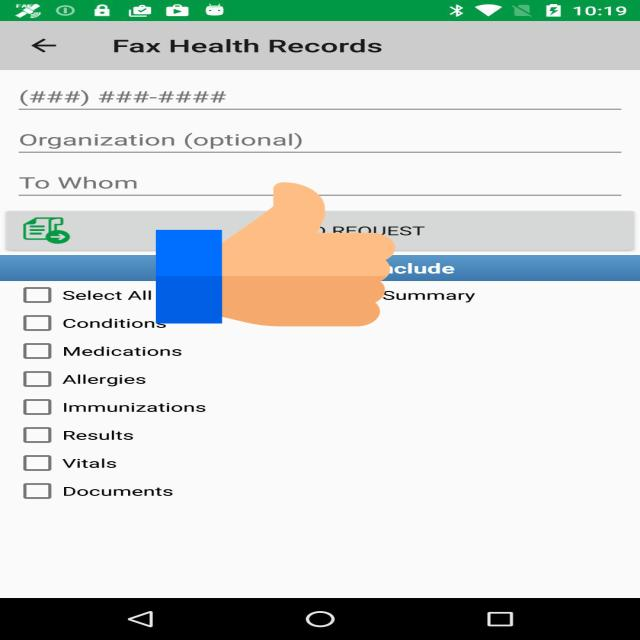privacy zuckering: (156, 179, 395, 330)
